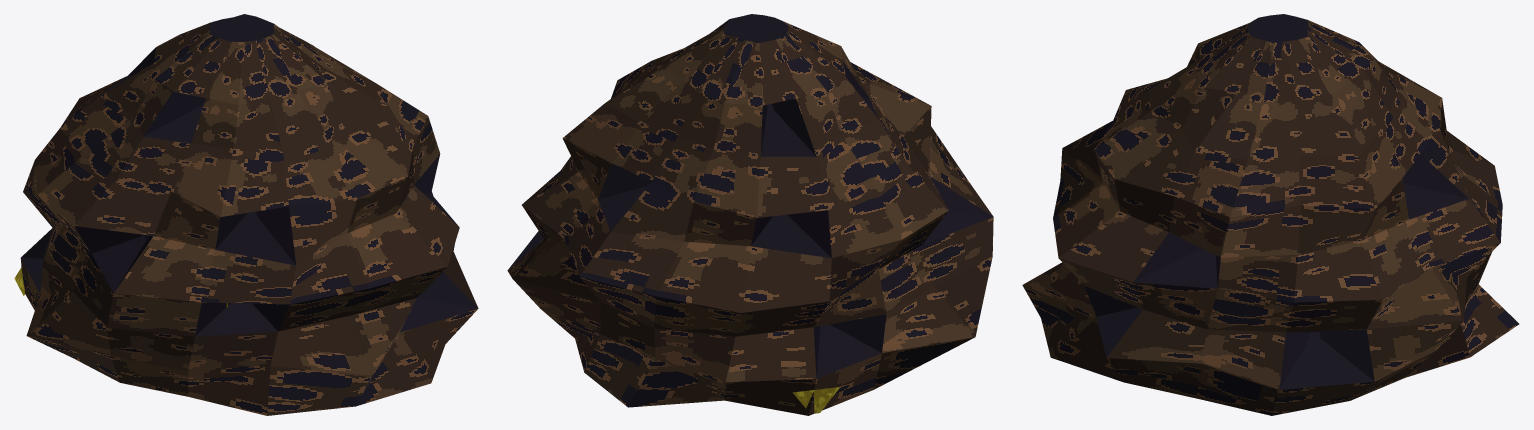
File: agujaPorosaMediana.gltf
3 renders of one model, left to right at view 1: azimuth 30°, elevation 25°; view 2: azimuth 150°, elevation 25°; view 3: azimuth 270°, elevation 25°, orthographic.
Parts seen in each view (by area): view 1: POR-01_Penasco_poroso.018-col; view 2: POR-01_Penasco_poroso.018-col; view 3: POR-01_Penasco_poroso.018-col.
Part boxes in pixels (x1,y1,x2,y2): POR-01_Penasco_poroso.018-col: (14,14,478,415); POR-01_Penasco_poroso.018-col: (507,14,993,415); POR-01_Penasco_poroso.018-col: (1022,14,1519,415).
Bounding box in the file's own units: 6.59 × 4.22 × 6.52.
1 material, 1 textured.
